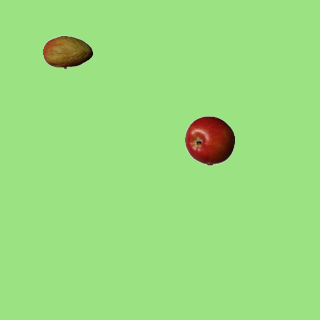Apple Braeburn: (184, 115, 234, 165)
Papaya: (42, 27, 92, 77)
